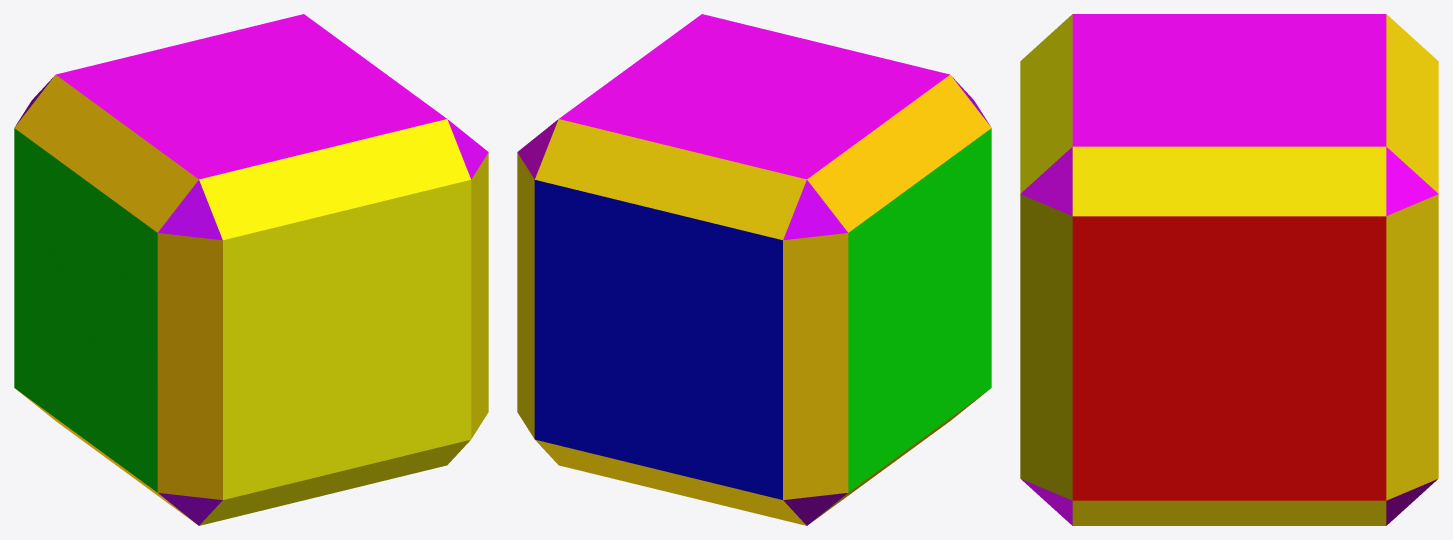
The model's file is chamfered_cube.glb.
The picture shows the model from 3 angles, left to right: view 1: azimuth 30°, elevation 25°; view 2: azimuth 150°, elevation 25°; view 3: azimuth 270°, elevation 25°; orthographic projection. The views are drawn at different scales.
Parts seen in each view (by area): view 1: ChamferedCube; view 2: ChamferedCube; view 3: ChamferedCube.
Boxes of the visible parts, box(x1,y1,x2,y2) form: ChamferedCube: box(14, 14, 488, 525); ChamferedCube: box(517, 14, 991, 525); ChamferedCube: box(1020, 14, 1438, 525).
Size of the model in its own units: 2 by 2 by 2.
